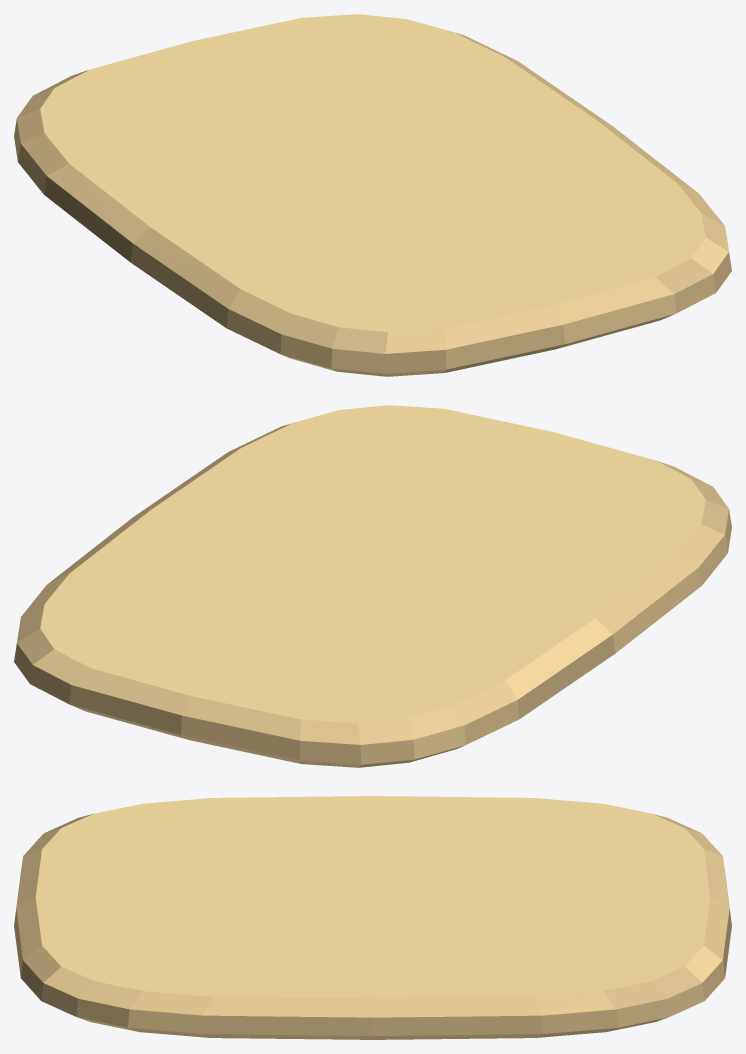
File: EB_SquareLid.fbx
3 renders of one model, top to bottom at view 1: azimuth 30°, elevation 25°; view 2: azimuth 150°, elevation 25°; view 3: azimuth 270°, elevation 25°, orthographic. The views are drawn at different scales.
Visible parts, largest first — view 1: EB_SquareLid; view 2: EB_SquareLid; view 3: EB_SquareLid.
Part boxes in pixels (box(x1,y1,x2,y2)): EB_SquareLid: box(14, 14, 731, 376); EB_SquareLid: box(14, 405, 731, 767); EB_SquareLid: box(14, 796, 731, 1039).
Size of the model in its own units: 0.434 by 0.041 by 0.596.
